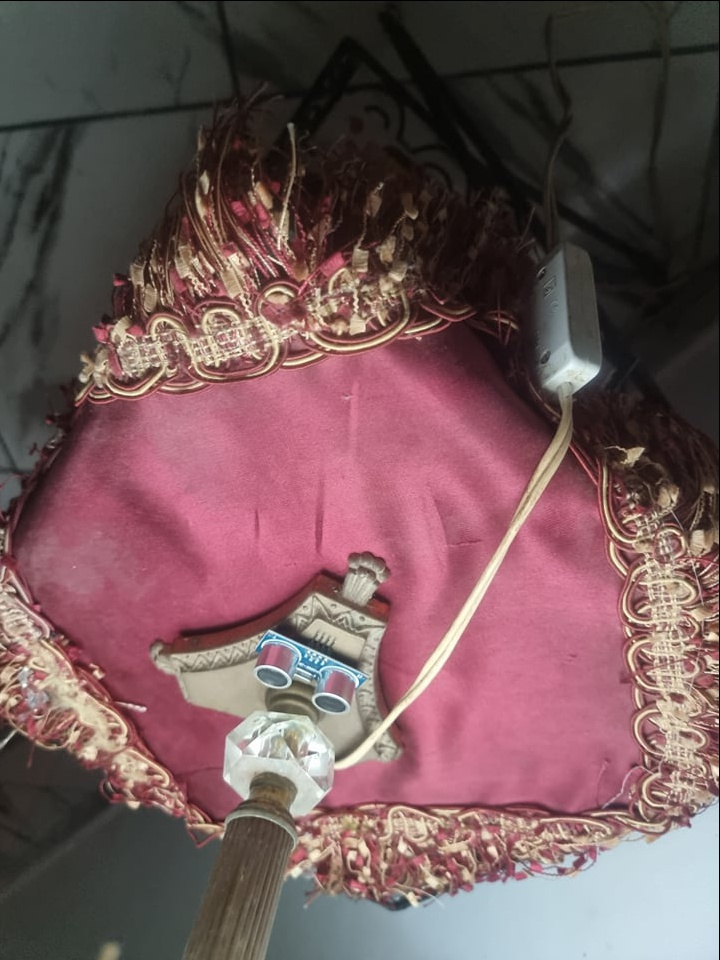SENSOR: (243, 625, 371, 715)
